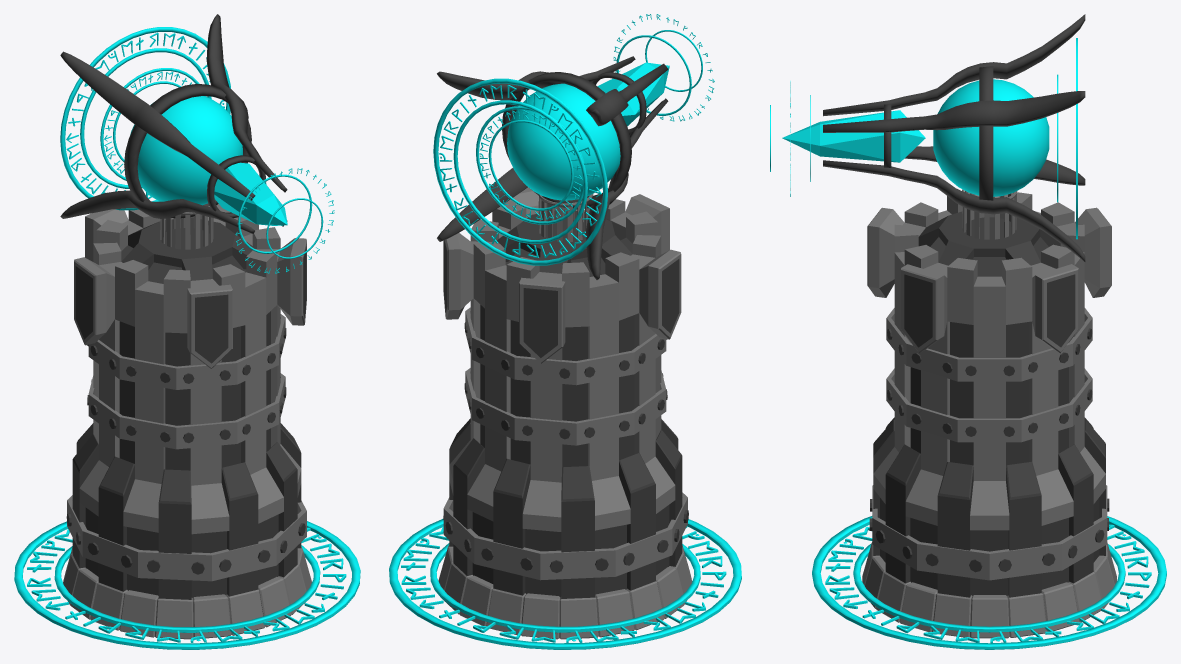
Rendered from MagicTower_2.fbx.
3 renders of one model, left to right at view 1: azimuth 30°, elevation 25°; view 2: azimuth 150°, elevation 25°; view 3: azimuth 270°, elevation 25°, orthographic. The views are drawn at different scales.
Visible parts, largest first — view 1: 2.Tower, 2.magic.canon, 2.base.magic.circle; view 2: 2.Tower, 2.magic.canon, 2.base.magic.circle; view 3: 2.Tower, 2.magic.canon, 2.base.magic.circle.
Part boxes in pixels (x1=…): 2.Tower: x1=63, y1=203, x2=311, y2=639; 2.magic.canon: x1=60, y1=14, x2=334, y2=273; 2.base.magic.circle: x1=14, y1=521, x2=360, y2=649; 2.Tower: x1=438, y1=187, x2=692, y2=639; 2.magic.canon: x1=433, y1=14, x2=714, y2=279; 2.base.magic.circle: x1=389, y1=519, x2=741, y2=649; 2.Tower: x1=862, y1=189, x2=1116, y2=638; 2.magic.canon: x1=770, y1=14, x2=1085, y2=261; 2.base.magic.circle: x1=812, y1=516, x2=1166, y2=649.
Bounding box in the file's own units: 183 × 306 × 204.
